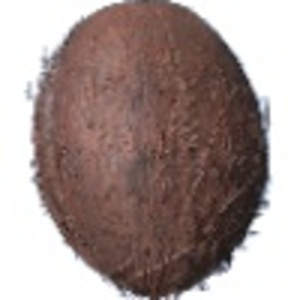coco: (25, 1, 274, 300)
